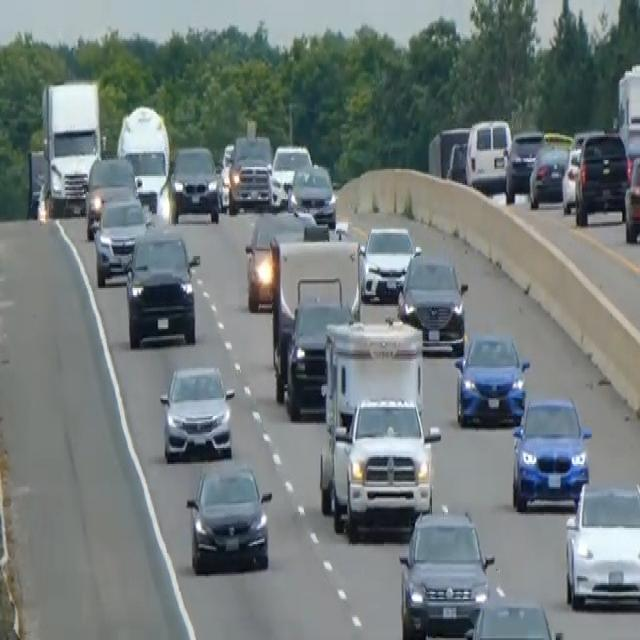car: (397, 505, 494, 638), (322, 316, 424, 428), (283, 276, 354, 418), (563, 480, 639, 612), (185, 459, 272, 574), (510, 393, 591, 512), (125, 228, 200, 348), (453, 327, 529, 427), (159, 363, 235, 462), (244, 208, 317, 311), (397, 250, 468, 354), (574, 128, 628, 224), (93, 194, 149, 286), (359, 222, 420, 302), (84, 155, 137, 240), (463, 598, 562, 638), (171, 142, 220, 222), (464, 116, 512, 192), (227, 134, 273, 212), (528, 132, 572, 208), (287, 162, 337, 228), (504, 128, 544, 201), (270, 142, 312, 206), (623, 151, 639, 244), (561, 144, 582, 212), (216, 140, 235, 210), (445, 139, 468, 183)
jeep: (329, 394, 440, 538)
lorry: (35, 76, 103, 217)
truck: (115, 102, 174, 220)
